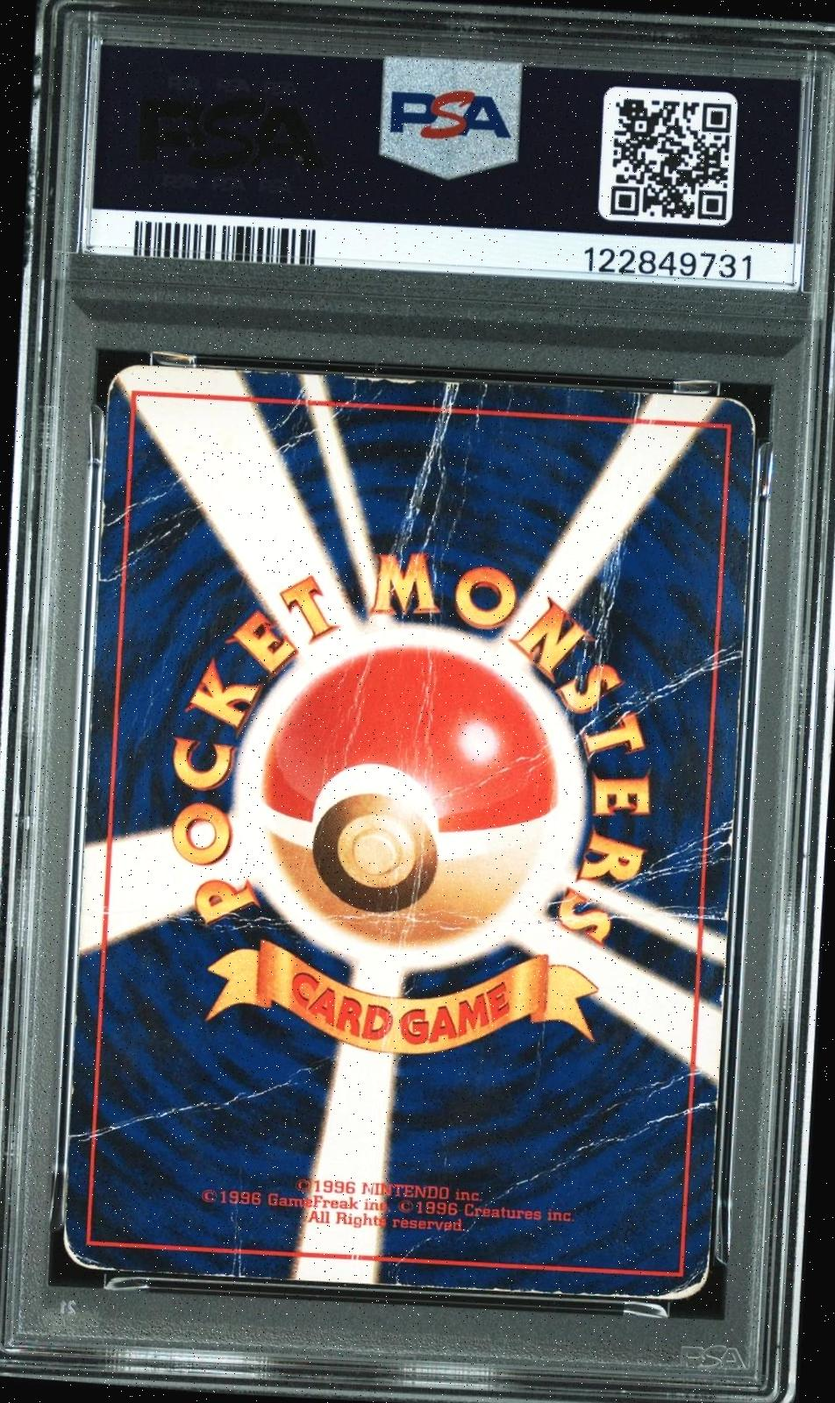card-2UtV: (63, 364, 756, 1301)
